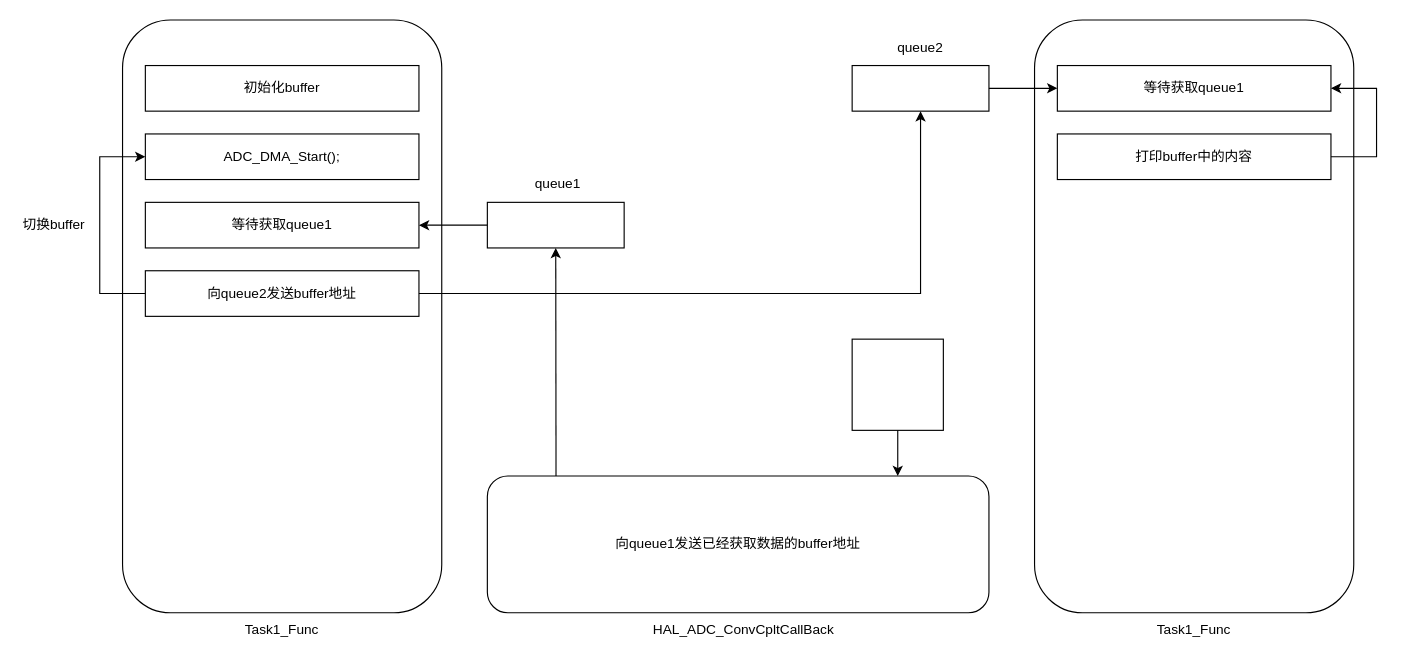
Image size: 1406x667. Some labels were removed from this diagram. Here are the shapes that lost their labels. From the top down, the centre of each, then its label:
At point (920, 87): "要打印的buffer的地址".
At point (555, 224): "已经获取数据的 buffer地址".
At point (897, 384): "DMA把ADC中的数据搬到指定buffer触发中断".
